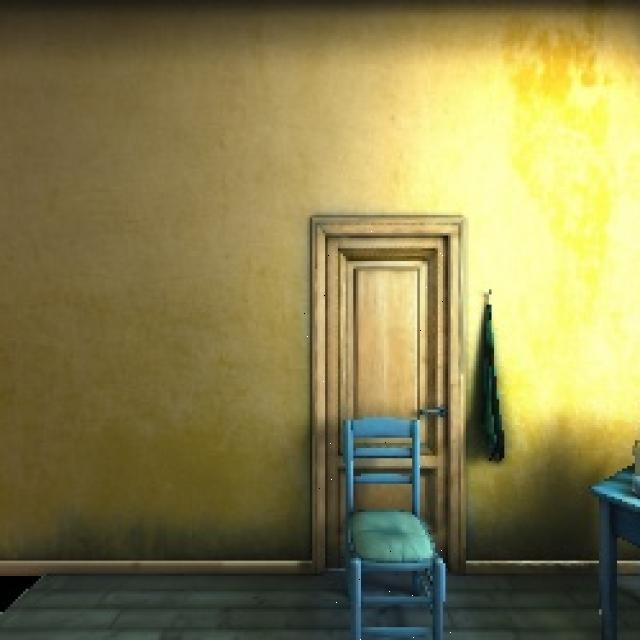chair: (328, 404, 458, 640)
door: (304, 216, 461, 567)
